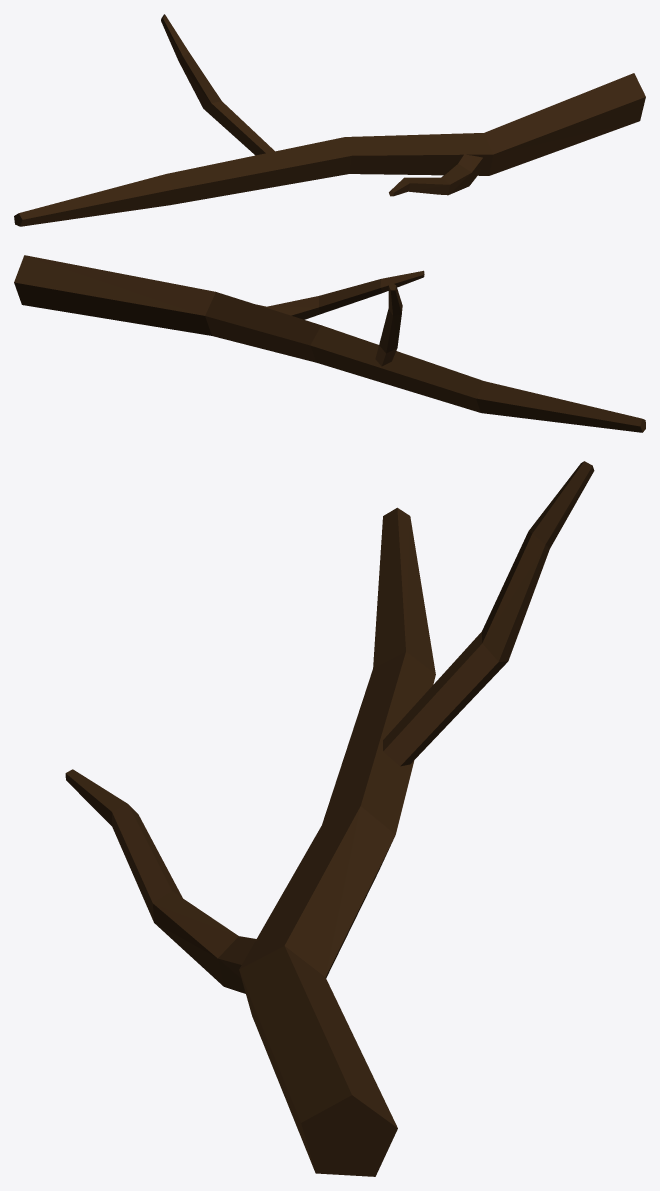
The model's file is Galaz_2.fbx.
The picture shows the model from 3 angles, top to bottom: view 1: azimuth 30°, elevation 25°; view 2: azimuth 150°, elevation 25°; view 3: azimuth 270°, elevation 25°; orthographic projection. The views are drawn at different scales.
Visible parts, largest first — view 1: Galaz_2_LOD0; view 2: Galaz_2_LOD0; view 3: Galaz_2_LOD0.
Boxes of the visible parts, <box> form: Galaz_2_LOD0: <box>14,14,645,226</box>; Galaz_2_LOD0: <box>14,255,645,432</box>; Galaz_2_LOD0: <box>65,461,594,1176</box>.
Size of what is drawn, in the model's own units: 1543 by 392 by 583.
